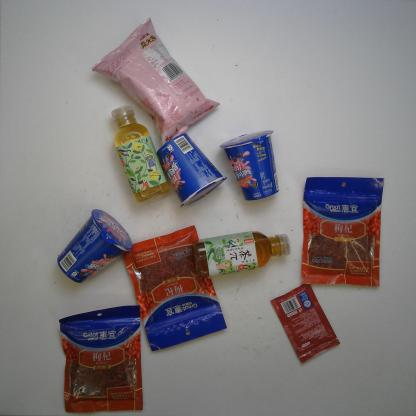Dessert: (57, 209, 133, 284), (156, 133, 226, 208), (220, 130, 279, 200)
Dried Fruit: (118, 226, 227, 351), (59, 304, 144, 412), (301, 176, 384, 286)
Drink: (110, 104, 170, 202), (192, 231, 290, 276)
Puffed Food: (92, 17, 221, 150)
Seasoner: (270, 280, 341, 364)
